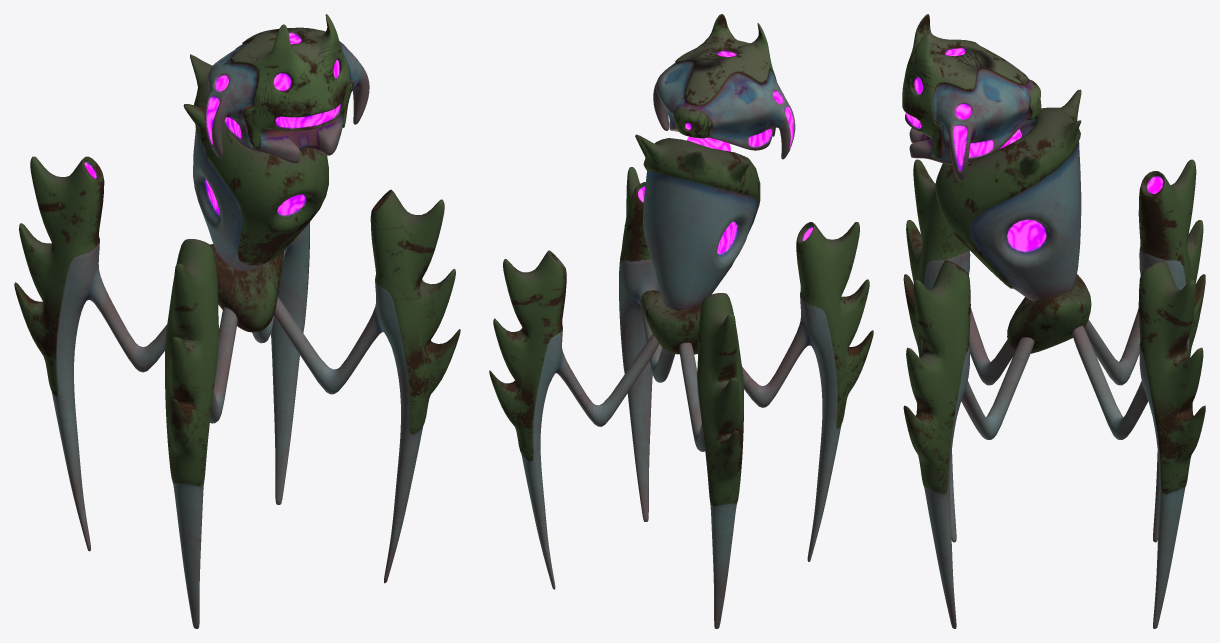
File: v1rus_LOD_single.fbx
The picture shows the model from 3 angles, left to right: view 1: azimuth 30°, elevation 25°; view 2: azimuth 150°, elevation 25°; view 3: azimuth 270°, elevation 25°; orthographic projection. The views are drawn at different scales.
Parts seen in each view (by area): view 1: v1rus_LOD0; view 2: v1rus_LOD0; view 3: v1rus_LOD0.
Boxes of the visible parts, x1=… form: v1rus_LOD0: x1=14, y1=14, x2=460, y2=628; v1rus_LOD0: x1=489, y1=14, x2=873, y2=628; v1rus_LOD0: x1=902, y1=14, x2=1205, y2=628.
Size of what is drawn, in the model's own units: 93.55 by 185 by 90.65.
